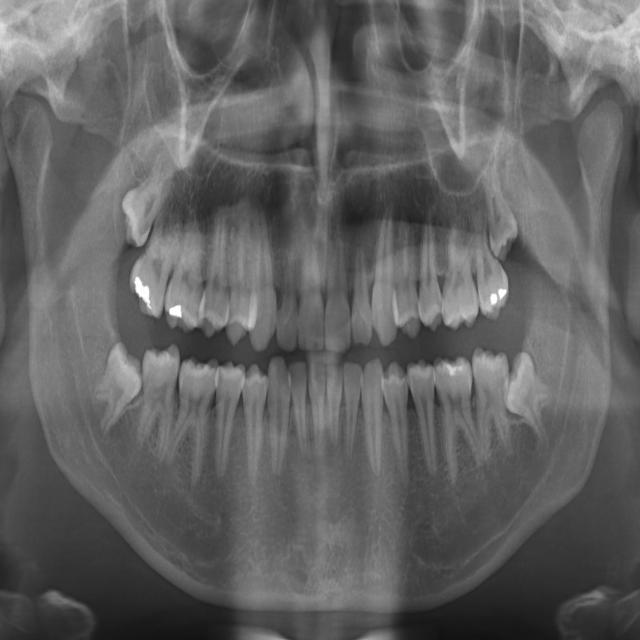AmalgamRestoration: (134, 274, 154, 312), (489, 282, 506, 310), (170, 306, 183, 322)
CompositeResinRestoration: (442, 356, 463, 382)
ImpactedTooth: (117, 166, 171, 251), (506, 331, 546, 444), (487, 160, 522, 260)
